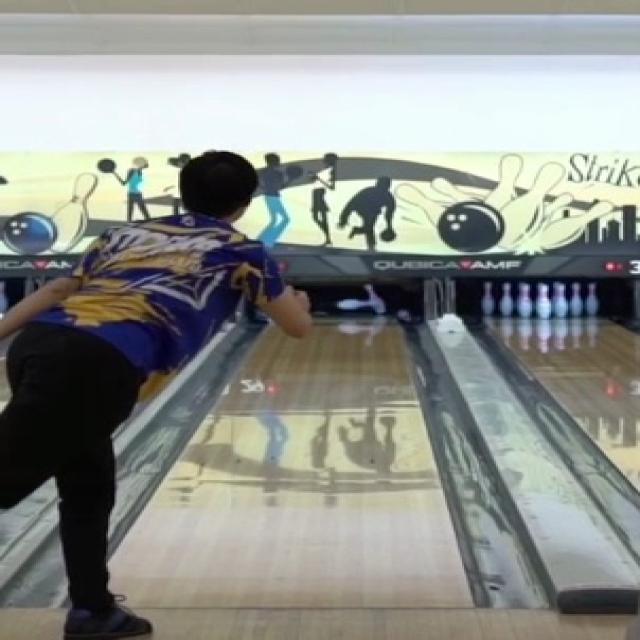alley: (112, 320, 468, 608)
bottle: (337, 284, 384, 314)
